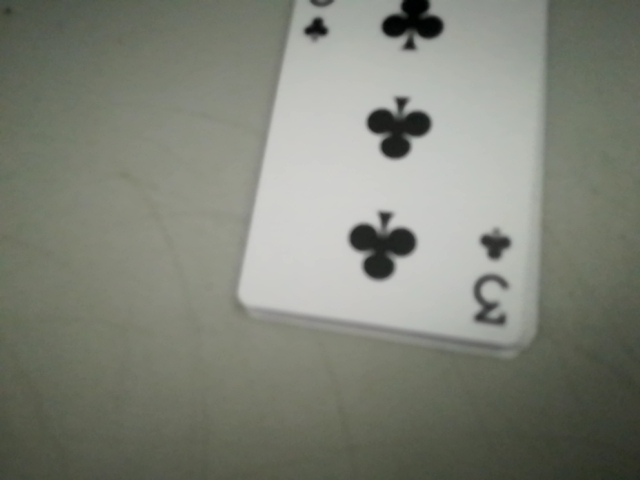mh 3: (466, 224, 522, 335)
